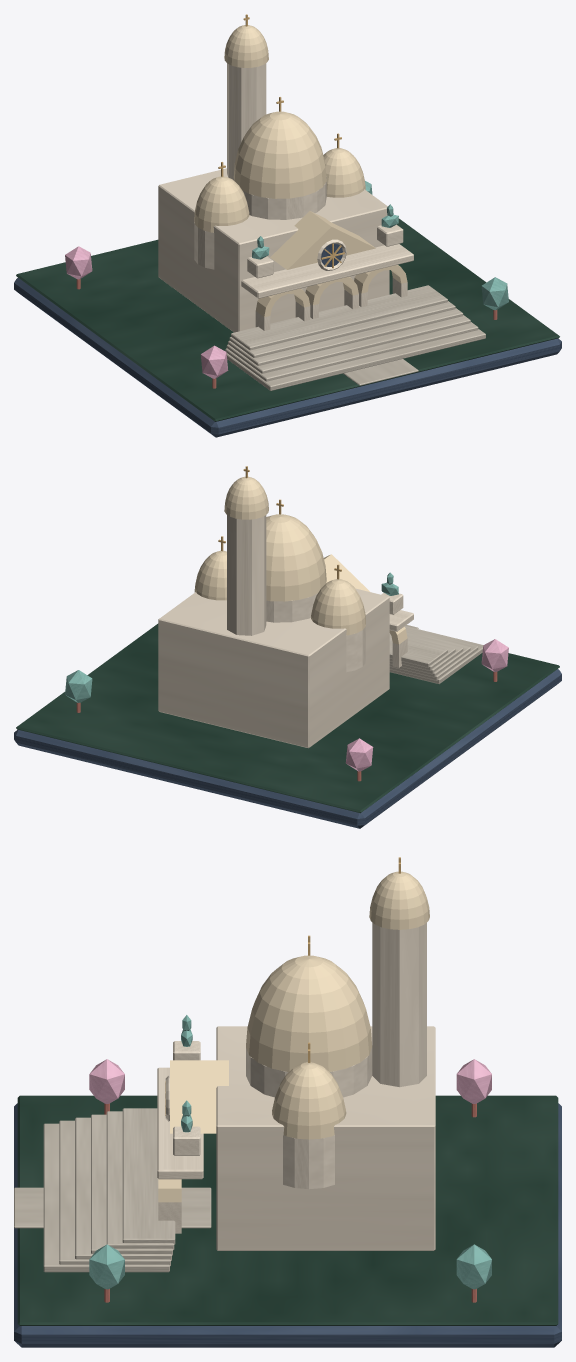
File: sacre-coeur-diorama.glb
3 views of the same model, one above another, from view 1: azimuth 30°, elevation 25°; view 2: azimuth 150°, elevation 25°; view 3: azimuth 270°, elevation 25° (orthographic). The views are drawn at different scales.
Visible parts, largest first — view 1: sacre-coeur; view 2: sacre-coeur; view 3: sacre-coeur.
Boxes of the visible parts, box(x1,y1,x2,y2) form: sacre-coeur: box(14, 14, 561, 437); sacre-coeur: box(14, 466, 561, 828); sacre-coeur: box(14, 857, 561, 1347).
Size of the model in its own units: 13 by 9.87 by 13.
1 material, 1 textured.
